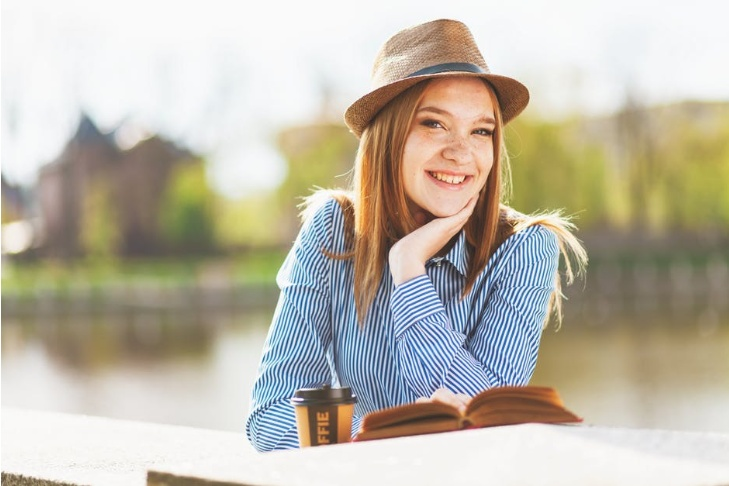face: (402, 76, 493, 215)
